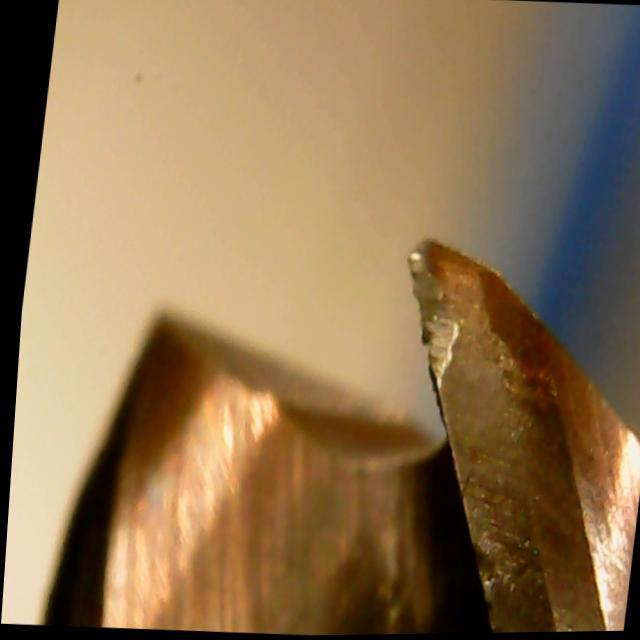Tool-wear-class-1: (360, 227, 548, 548)
